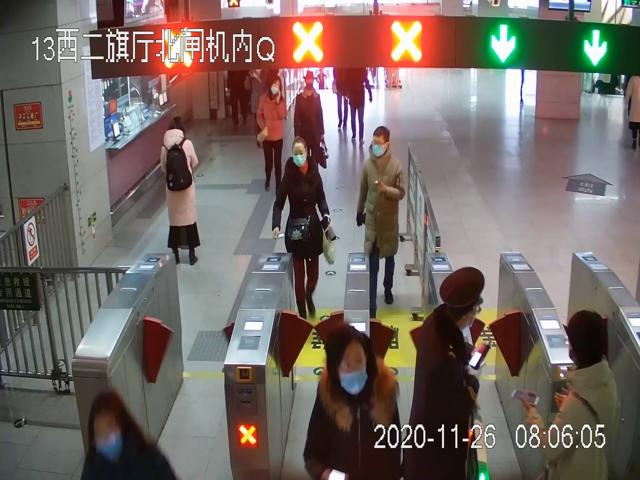person: (272, 137, 335, 319), (356, 125, 404, 320), (160, 118, 201, 265), (255, 76, 287, 196)
